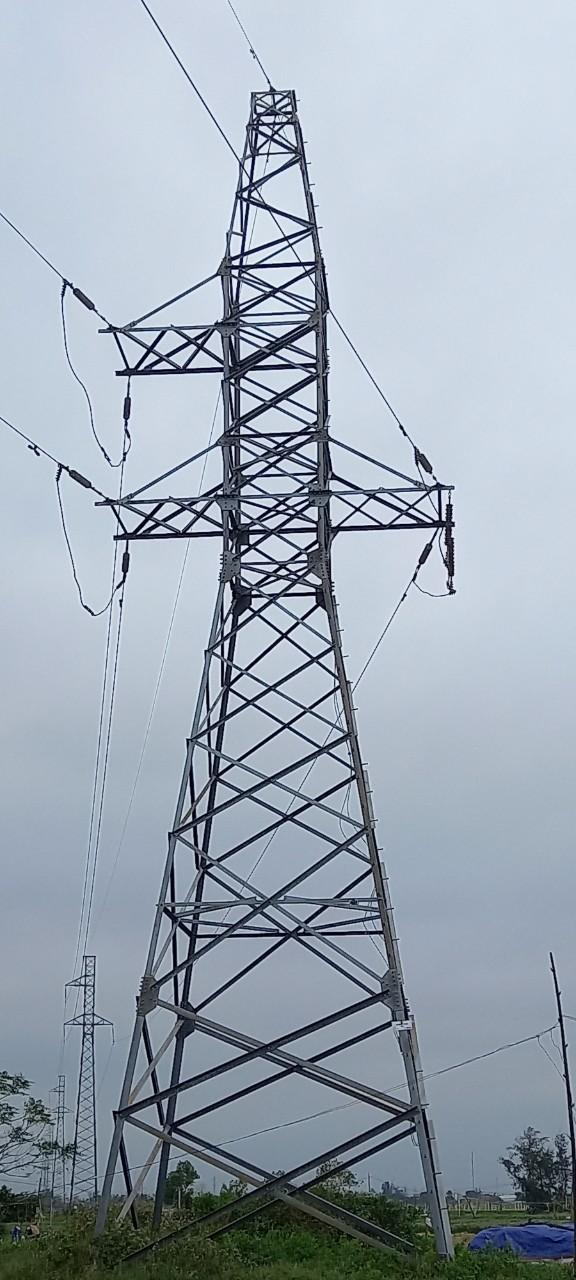power_tower: (86, 60, 442, 1234)
